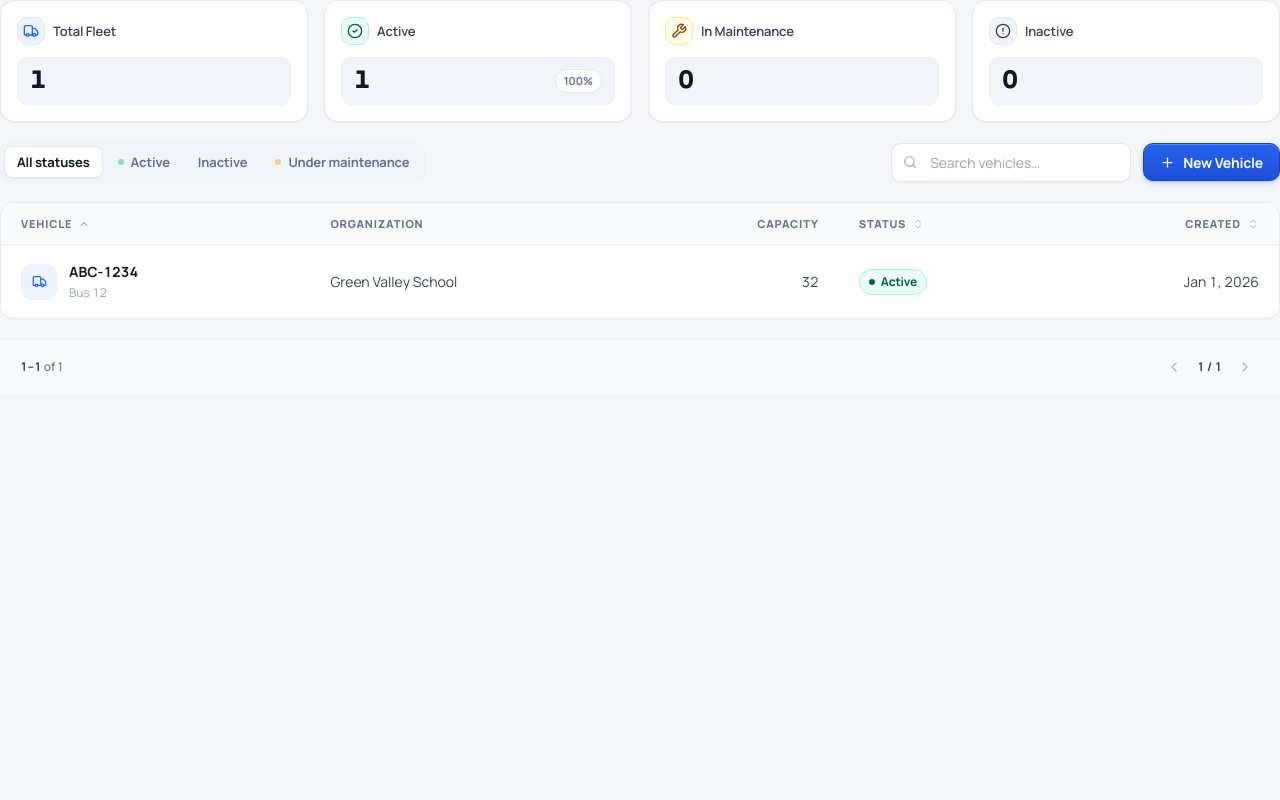
Test: VehiclesPage › shows 'not yet connected' for an assigned device that has never reported
Click the text "ABC-1234".
click(104, 272)  # box [69, 261, 138, 283]
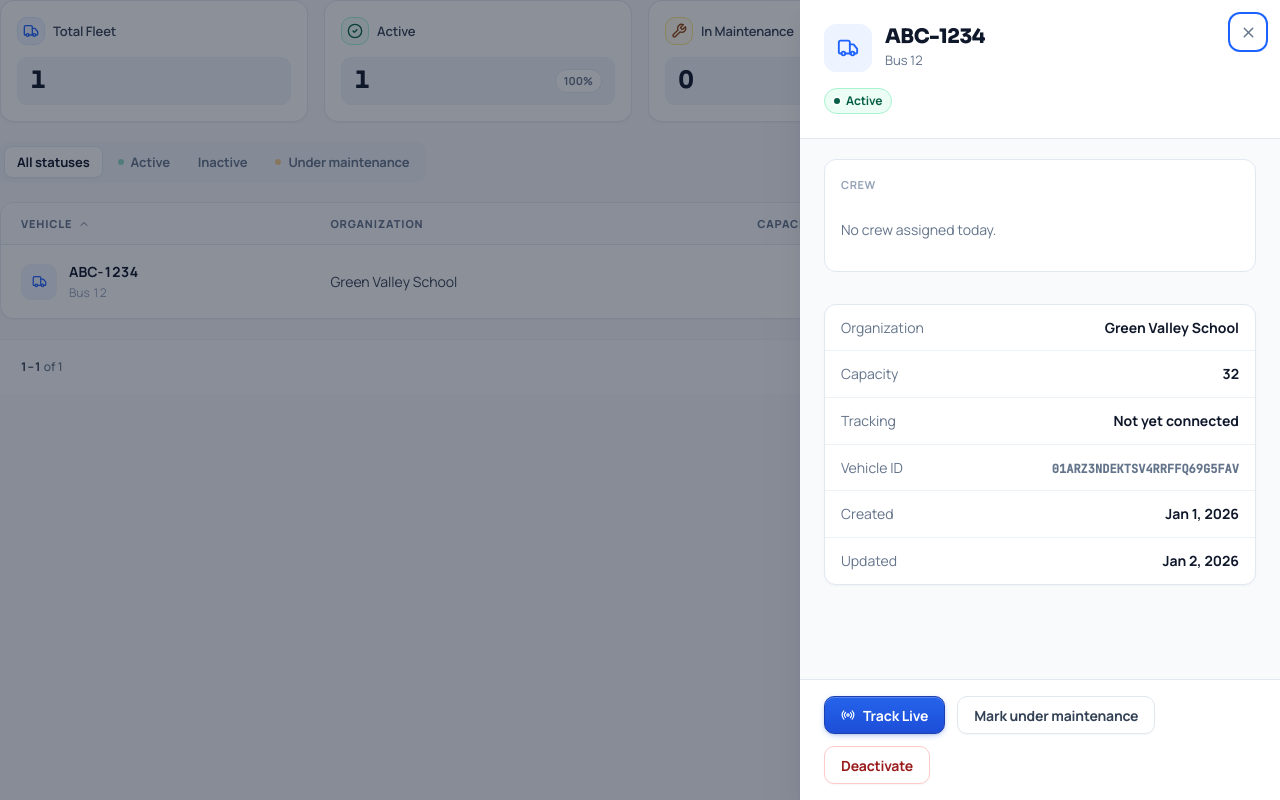
Expected: the text "Not yet connected" is shown, [1114, 410, 1239, 432]
